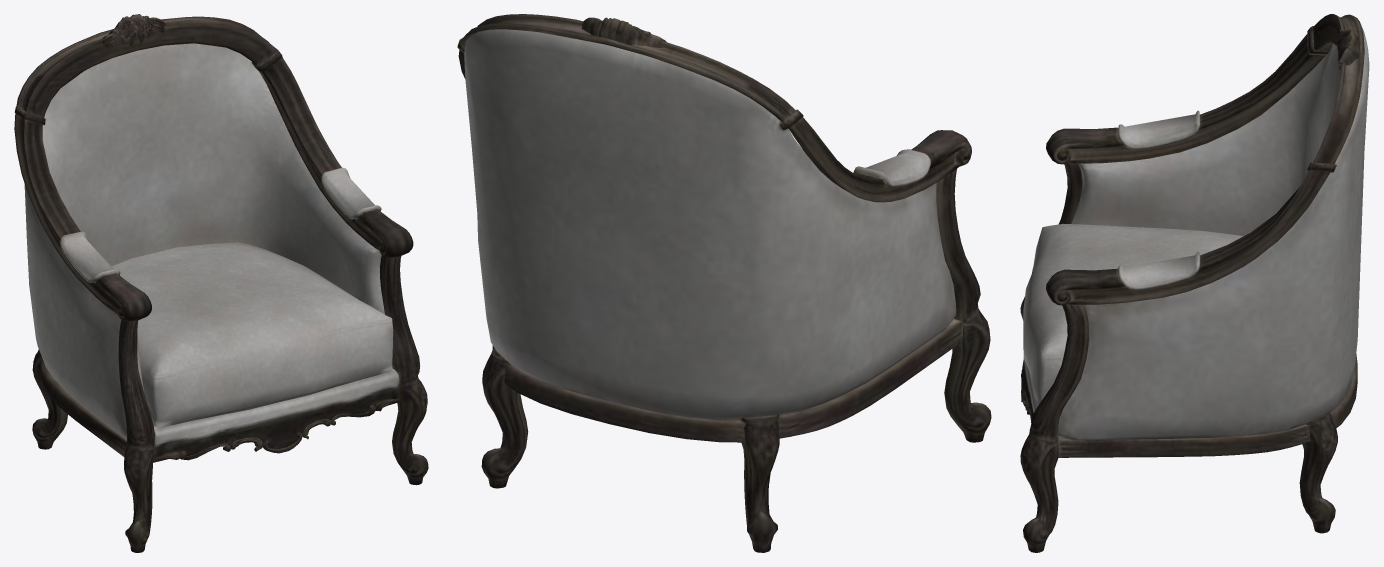
Rendered from ArmChair_01.glb.
The picture shows the model from 3 angles, left to right: view 1: azimuth 30°, elevation 25°; view 2: azimuth 150°, elevation 25°; view 3: azimuth 270°, elevation 25°; orthographic projection. The views are drawn at different scales.
Parts seen in each view (by area): view 1: c22_fabric, c21_fabric, c17_fabric, c23_fabric, c14_fabric, c13_wood, c18_wood, c12_wood, c08_wood, c07_wood, c09_wood, c16_wood (+7 smaller); view 2: c23_fabric, c12_wood, c04_wood, c05_wood, c18_wood, c03_wood, c16_wood, c02_wood, c09_wood, c00_fabric, c20_wood; view 3: c23_fabric, c22_fabric, c21_fabric, c13_wood, c15_wood, c06_wood, c10_wood, c18_wood, c02_wood, c17_fabric, c00_fabric, c01_fabric (+8 smaller).
Boxes of the visible parts, bbox=[...] form: c22_fabric: bbox=[42, 43, 384, 394]; c21_fabric: bbox=[111, 242, 391, 376]; c17_fabric: bbox=[140, 319, 393, 427]; c23_fabric: bbox=[24, 183, 126, 438]; c14_fabric: bbox=[153, 368, 398, 458]; c13_wood: bbox=[152, 255, 428, 485]; c18_wood: bbox=[26, 14, 276, 124]; c12_wood: bbox=[118, 319, 154, 552]; c08_wood: bbox=[251, 44, 341, 174]; c07_wood: bbox=[14, 106, 80, 233]; c09_wood: bbox=[15, 14, 166, 119]; c16_wood: bbox=[14, 114, 124, 319]; c23_fabric: bbox=[464, 29, 956, 420]; c12_wood: bbox=[936, 169, 991, 442]; c04_wood: bbox=[504, 364, 745, 442]; c05_wood: bbox=[745, 318, 963, 442]; c18_wood: bbox=[461, 14, 789, 127]; c03_wood: bbox=[740, 414, 779, 552]; c16_wood: bbox=[790, 117, 971, 202]; c02_wood: bbox=[481, 348, 528, 488]; c09_wood: bbox=[605, 19, 802, 127]; c00_fabric: bbox=[853, 149, 930, 187]; c20_wood: bbox=[788, 128, 969, 192]; c23_fabric: bbox=[1058, 27, 1369, 440]; c22_fabric: bbox=[1071, 43, 1340, 235]; c21_fabric: bbox=[1033, 223, 1243, 355]; c13_wood: bbox=[1020, 304, 1089, 552]; c15_wood: bbox=[1054, 170, 1330, 304]; c06_wood: bbox=[1058, 424, 1310, 457]; c10_wood: bbox=[1054, 54, 1325, 163]; c18_wood: bbox=[1309, 14, 1364, 171]; c02_wood: bbox=[1299, 412, 1337, 533]; c17_fabric: bbox=[1023, 234, 1063, 403]; c00_fabric: bbox=[1118, 109, 1214, 149]; c01_fabric: bbox=[1118, 251, 1200, 290].
Bounding box in the file's own units: 0.8484 × 1.07 × 0.7658.
Materials: 1 (1 with a texture image).
